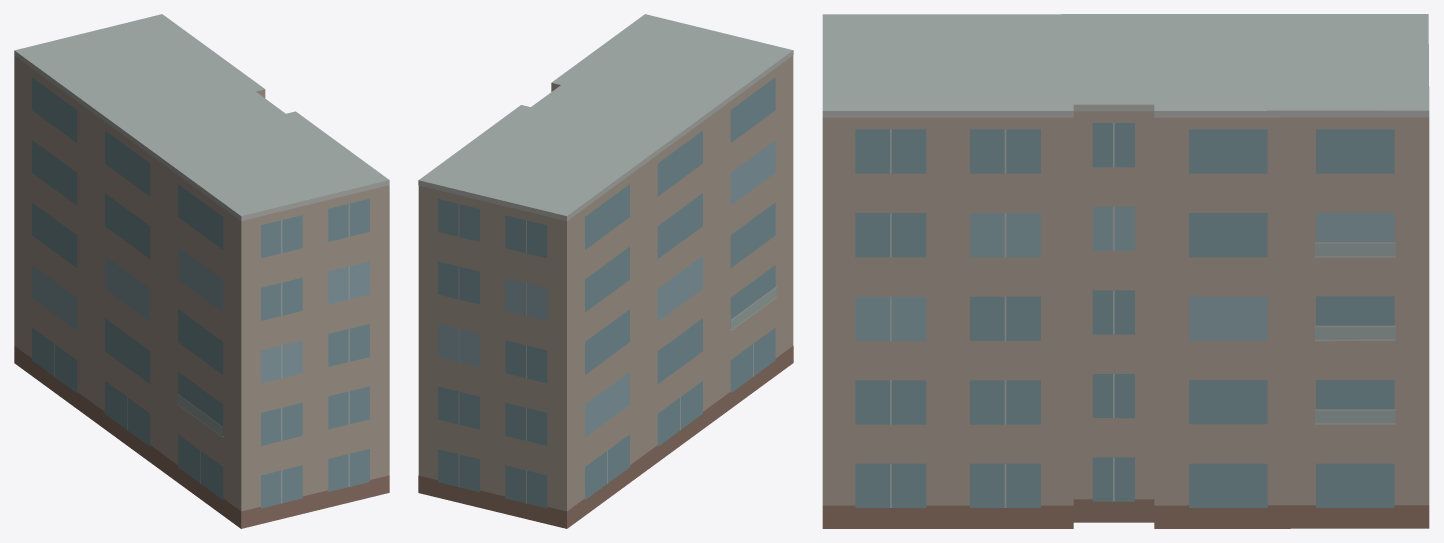
The model's file is survey-upis-32598209.glb.
3 views of the same model, side by side, from view 1: azimuth 30°, elevation 25°; view 2: azimuth 150°, elevation 25°; view 3: azimuth 270°, elevation 25° (orthographic). The views are drawn at different scales.
Visible parts, largest first — view 1: survey-upis-32598209.tmp; view 2: survey-upis-32598209.tmp; view 3: survey-upis-32598209.tmp.
Boxes of the visible parts, x1=… form: survey-upis-32598209.tmp: x1=14, y1=14, x2=389, y2=528; survey-upis-32598209.tmp: x1=418, y1=14, x2=793, y2=528; survey-upis-32598209.tmp: x1=822, y1=14, x2=1429, y2=528.
Size of the model in its own units: 7.62 by 15.2 by 20.01.
